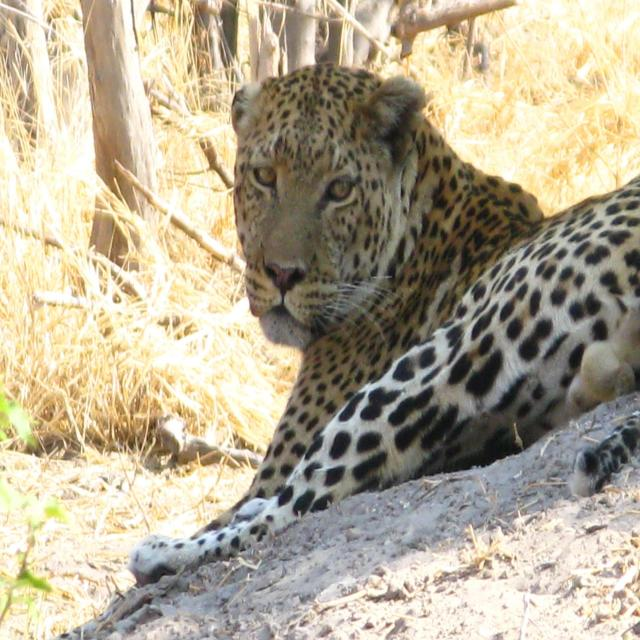Leopard: (98, 61, 640, 616)
